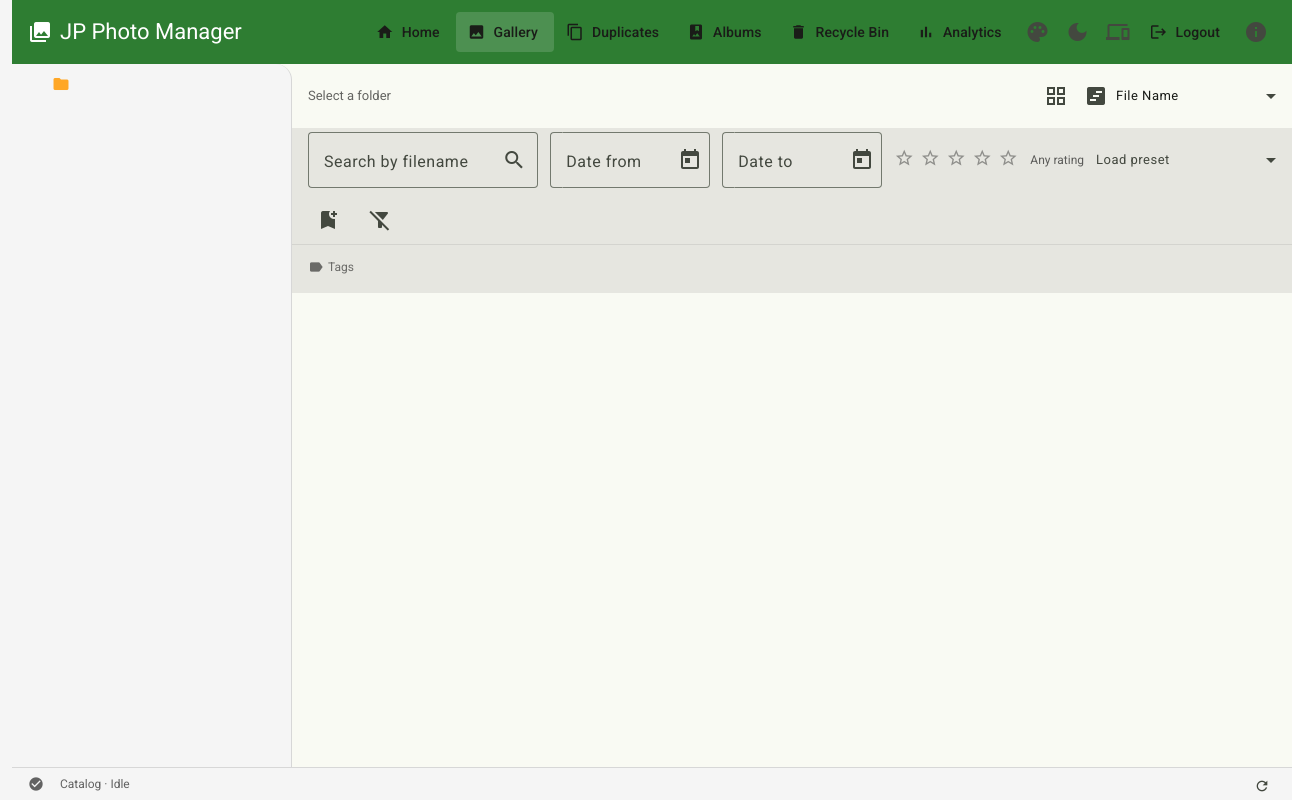
Gallery › galleryPage_folderSelected_assetListRowsAreRendered
# Click the first folder in the tree to trigger onFolderSelected
Click the list item: x=41, y=84 x1=12 y1=64 x2=70 y2=104
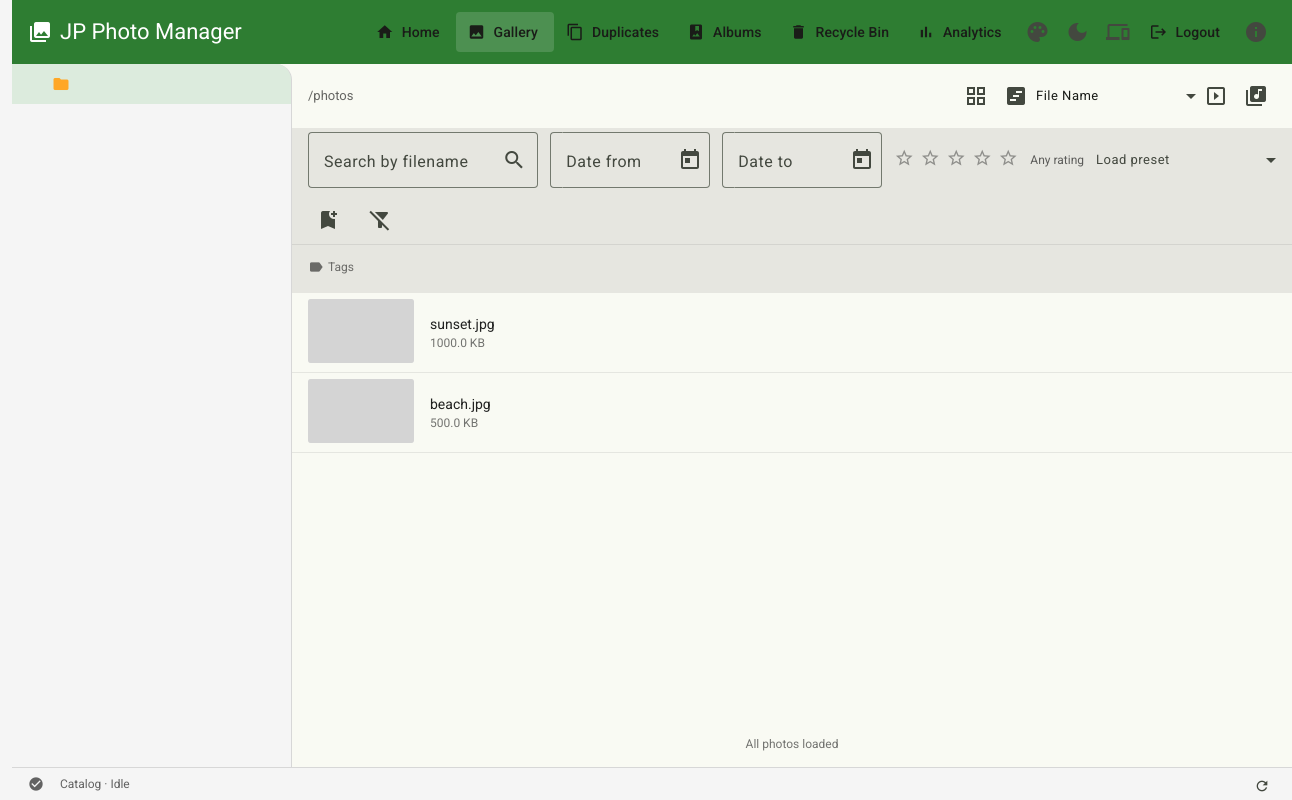
Check: the number of elements with class "asset-list-row" is 2, box x1=292 y1=293 x2=1291 y2=373; x1=292 y1=373 x2=1291 y2=453
